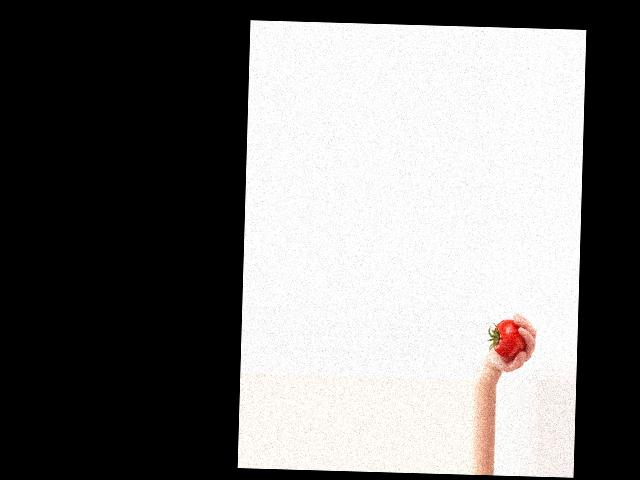tomato: (492, 319, 526, 358)
